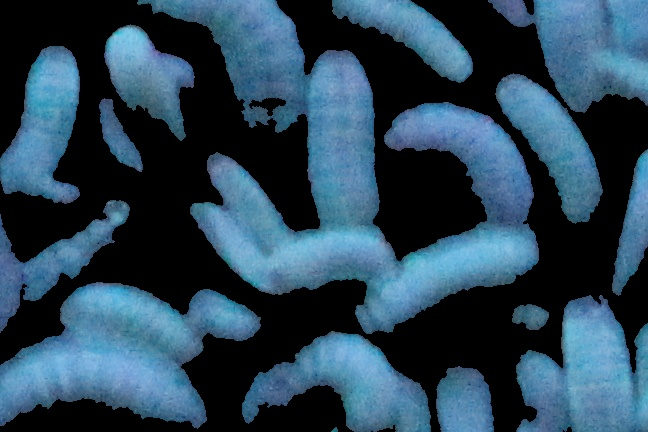larvae: (483, 57, 622, 245), (119, 1, 308, 123), (361, 227, 554, 339), (379, 86, 531, 223), (3, 338, 204, 432), (296, 31, 386, 230), (61, 260, 211, 379), (4, 37, 88, 217), (246, 332, 395, 432), (105, 21, 207, 158), (323, 1, 478, 85), (189, 147, 305, 254), (557, 294, 633, 432), (181, 196, 272, 291), (87, 72, 155, 192), (267, 228, 393, 288), (523, 1, 604, 85), (188, 289, 256, 339)
